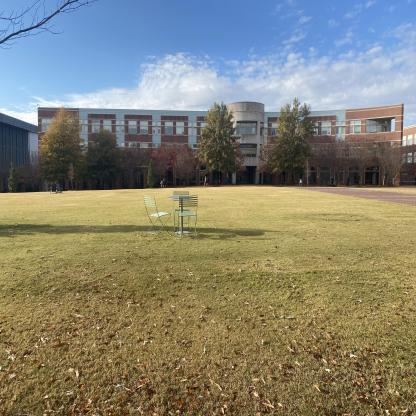EB-1: (29, 96, 406, 201)
